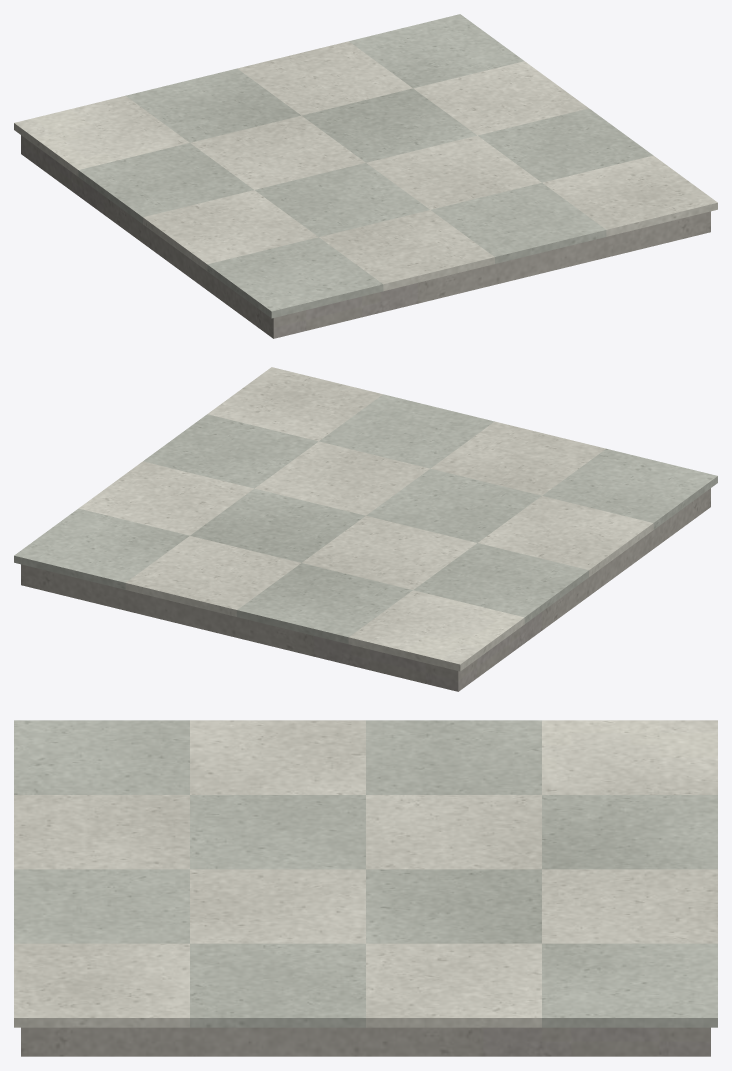
The model's file is floor_vct_g.glb.
3 views of the same model, one above another, from view 1: azimuth 30°, elevation 25°; view 2: azimuth 150°, elevation 25°; view 3: azimuth 270°, elevation 25° (orthographic). The views are drawn at different scales.
Visible parts, largest first — view 1: floor_vct_g_vct, floor_vct_g_vct2, floor_vct_g_concrete; view 2: floor_vct_g_vct2, floor_vct_g_vct, floor_vct_g_concrete; view 3: floor_vct_g_vct, floor_vct_g_vct2, floor_vct_g_concrete.
Part boxes in pixels (bbox=[...]): floor_vct_g_vct: bbox=[14, 41, 717, 291]; floor_vct_g_vct2: bbox=[78, 14, 653, 318]; floor_vct_g_concrete: bbox=[21, 135, 710, 338]; floor_vct_g_vct2: bbox=[14, 394, 717, 644]; floor_vct_g_vct: bbox=[78, 367, 653, 671]; floor_vct_g_concrete: bbox=[21, 488, 710, 691]; floor_vct_g_vct: bbox=[14, 720, 717, 1027]; floor_vct_g_vct2: bbox=[14, 720, 717, 1027]; floor_vct_g_concrete: bbox=[21, 1027, 710, 1056].
Size of the model in its own units: 2 by 0.13 by 2.
3 materials, 3 textured.
